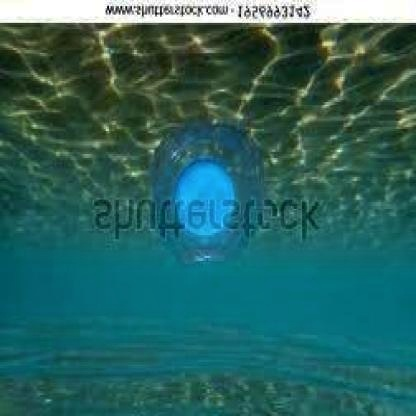pbottle: (144, 106, 277, 275)
